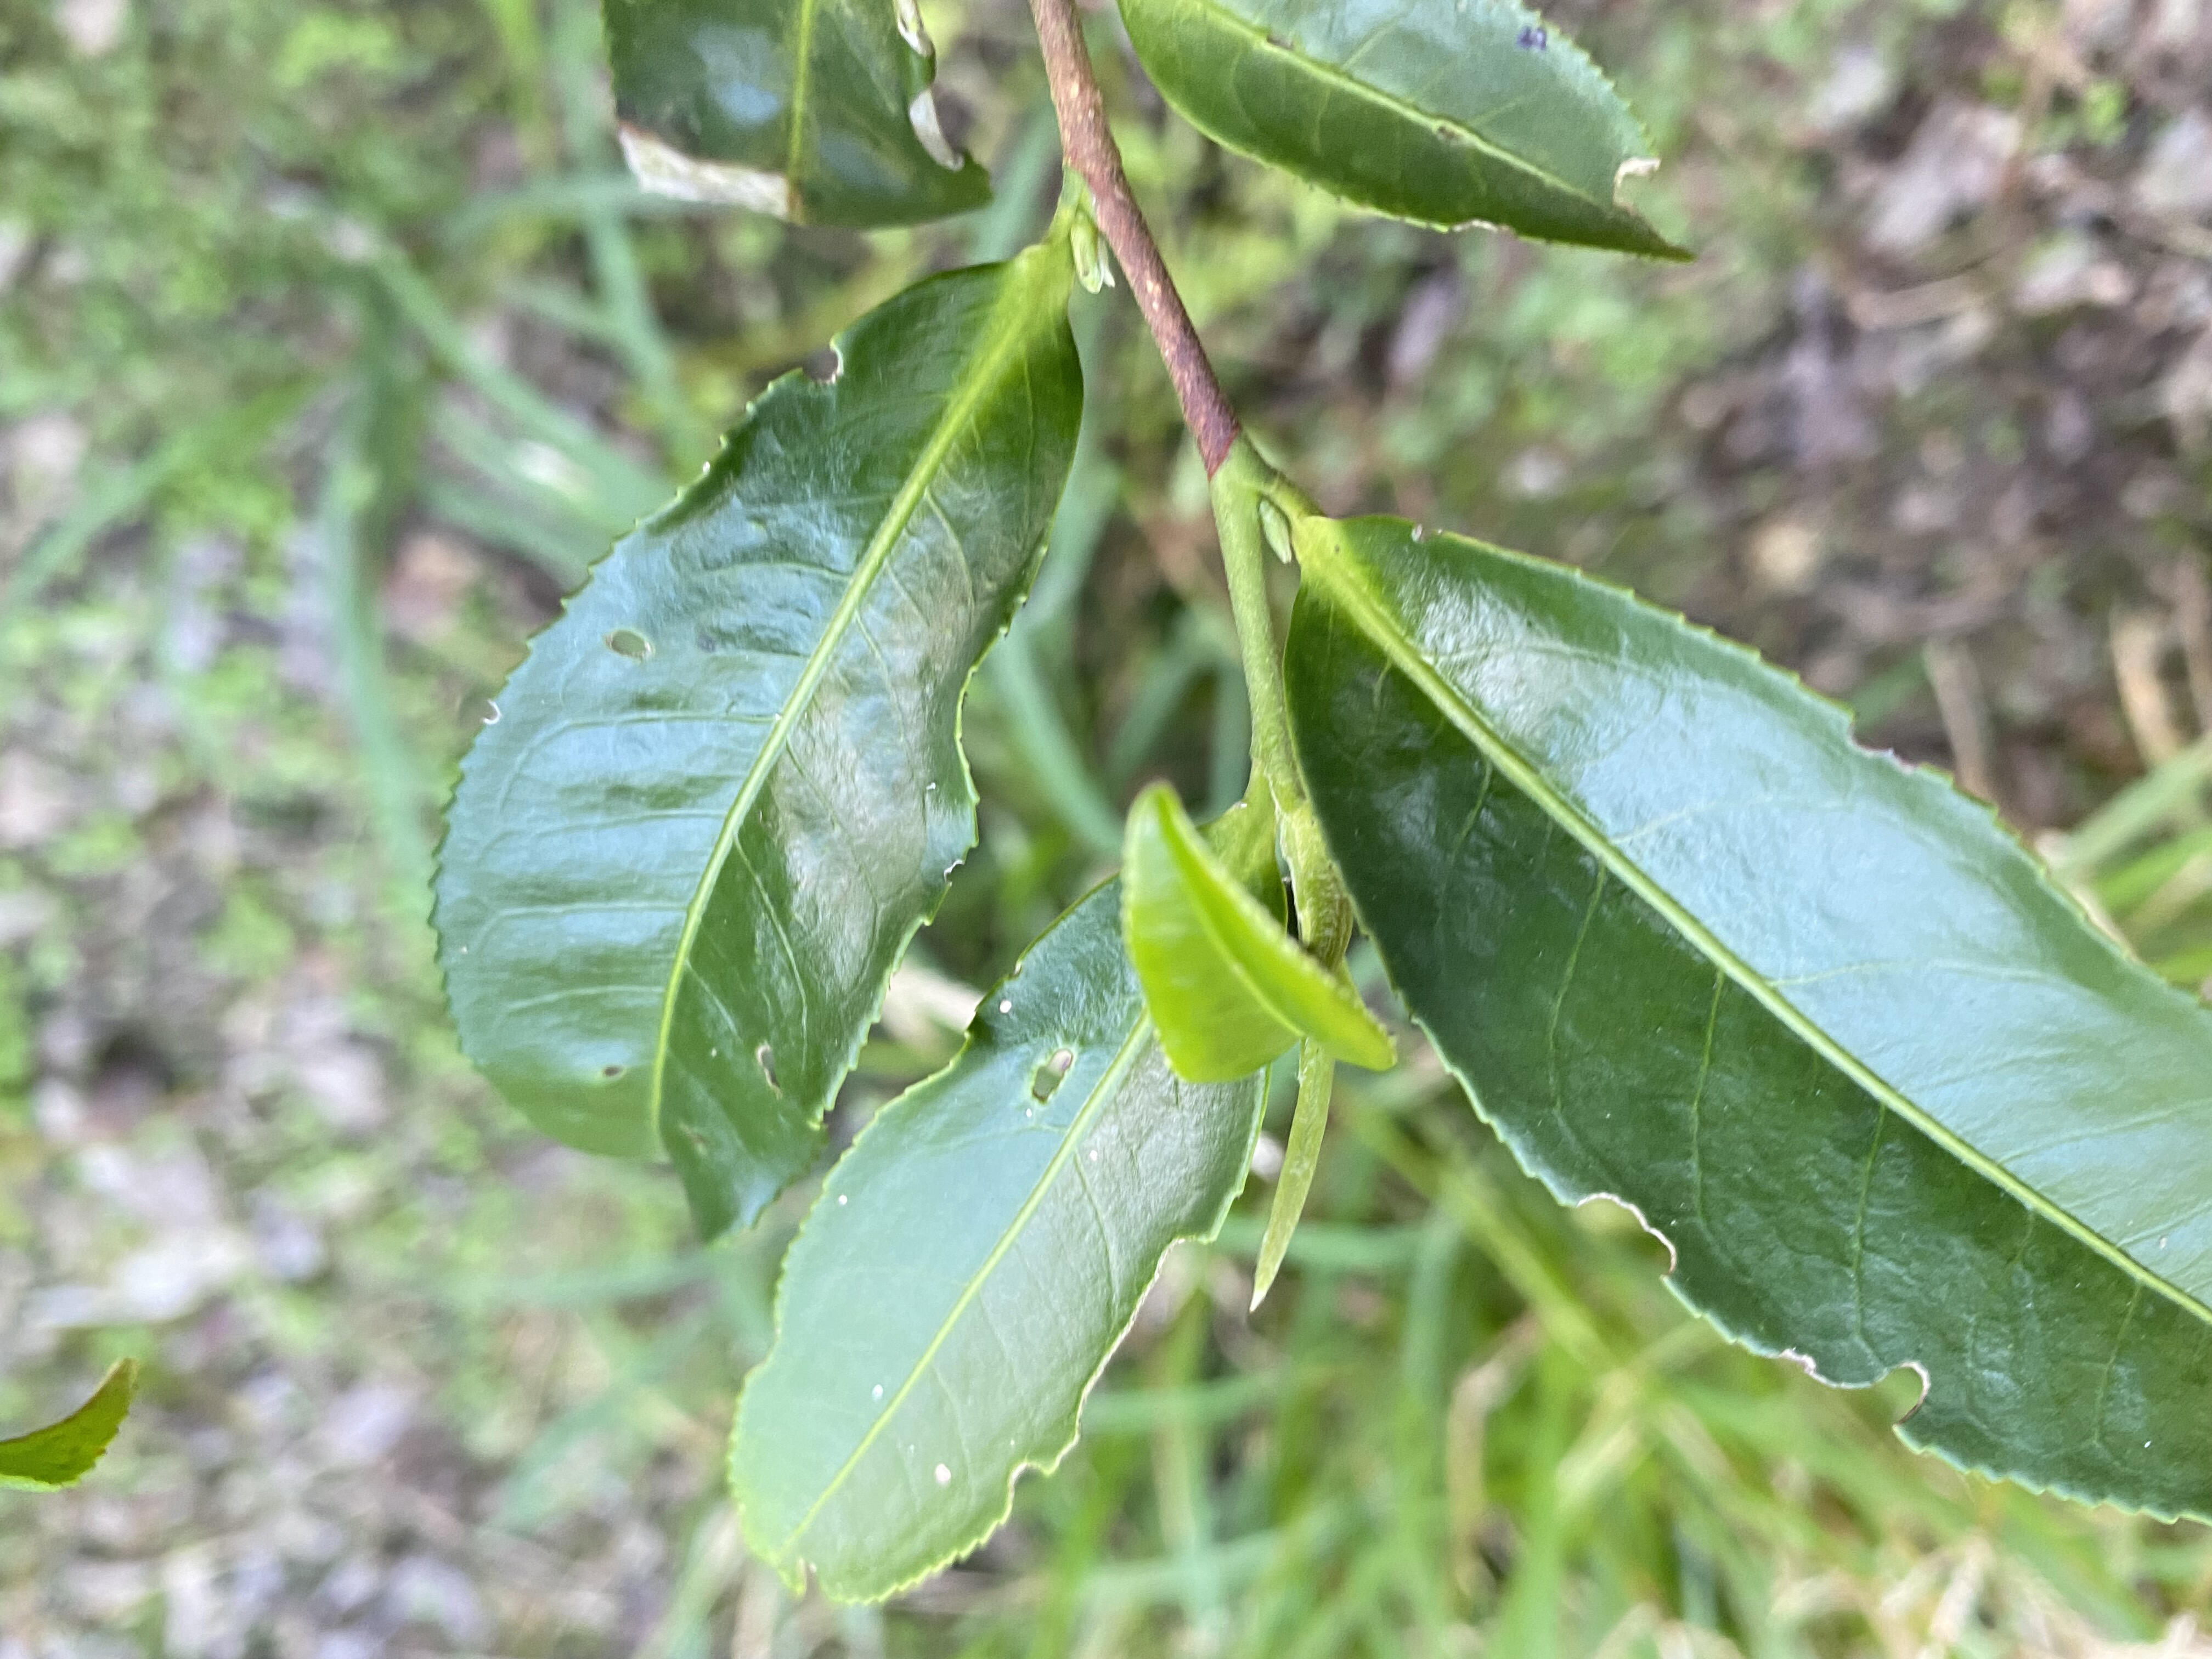chihuo_high: (1282, 512, 2212, 1532), (427, 251, 1089, 1265), (719, 805, 1292, 1607), (1118, 2, 1696, 261)
healthy: (1113, 777, 1395, 1086)
tanju_high: (596, 3, 995, 232)
